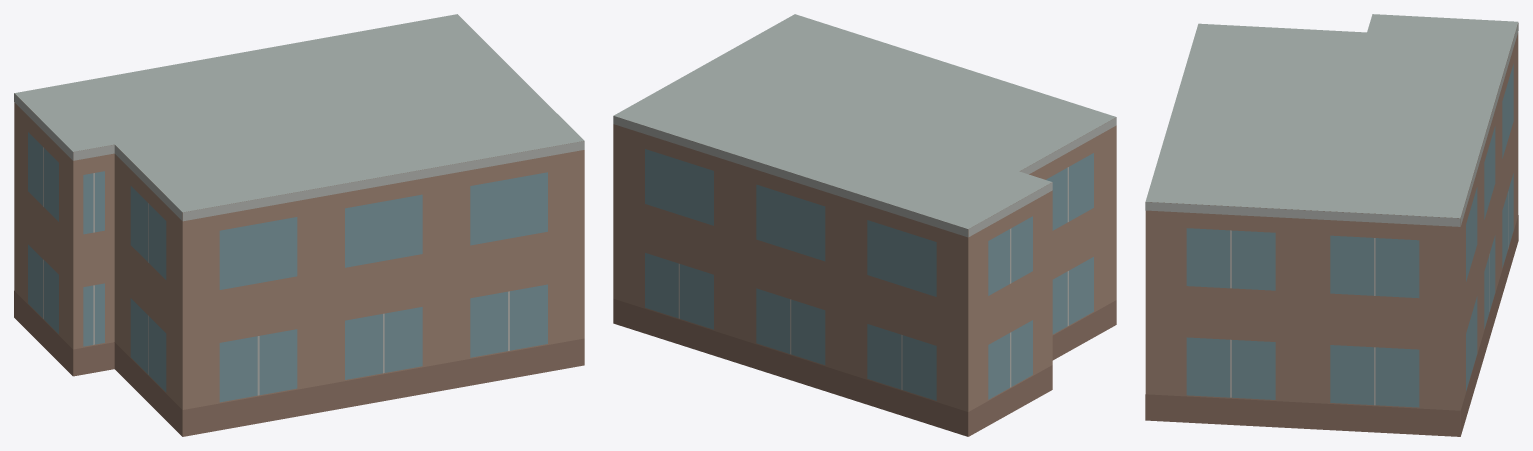
File: survey-upis-32807995.glb
3 views of the same model, side by side, from view 1: azimuth 30°, elevation 25°; view 2: azimuth 150°, elevation 25°; view 3: azimuth 270°, elevation 25° (orthographic). The views are drawn at different scales.
Visible parts, largest first — view 1: survey-upis-32807995.tmp; view 2: survey-upis-32807995.tmp; view 3: survey-upis-32807995.tmp.
Part boxes in pixels (x1,y1,x2,y2): survey-upis-32807995.tmp: (14,14,584,436); survey-upis-32807995.tmp: (613,14,1116,436); survey-upis-32807995.tmp: (1145,14,1518,436).
Bounding box in the file's own units: 12.23 × 6.1 × 9.44.
